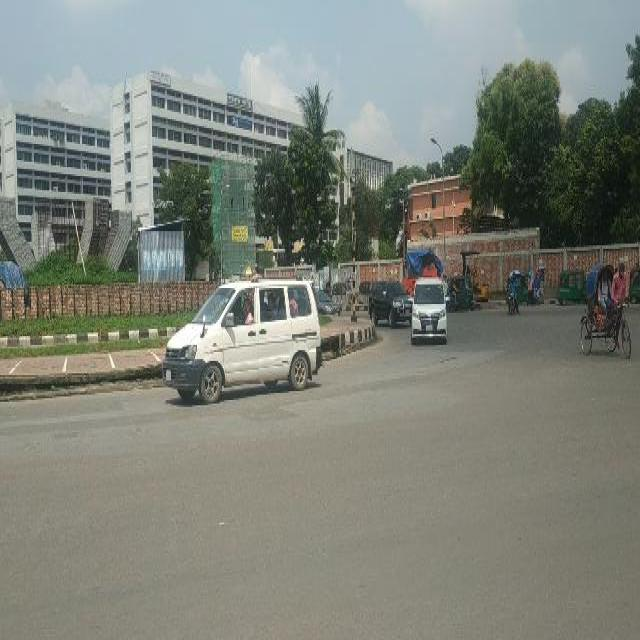car: (369, 276, 410, 327), (314, 286, 340, 316)
motorcycle: (583, 260, 628, 364), (556, 266, 584, 306), (330, 277, 353, 306), (465, 274, 475, 313), (628, 267, 639, 302), (506, 286, 518, 318), (357, 279, 368, 302)
truck: (160, 274, 325, 405), (410, 276, 448, 343)
